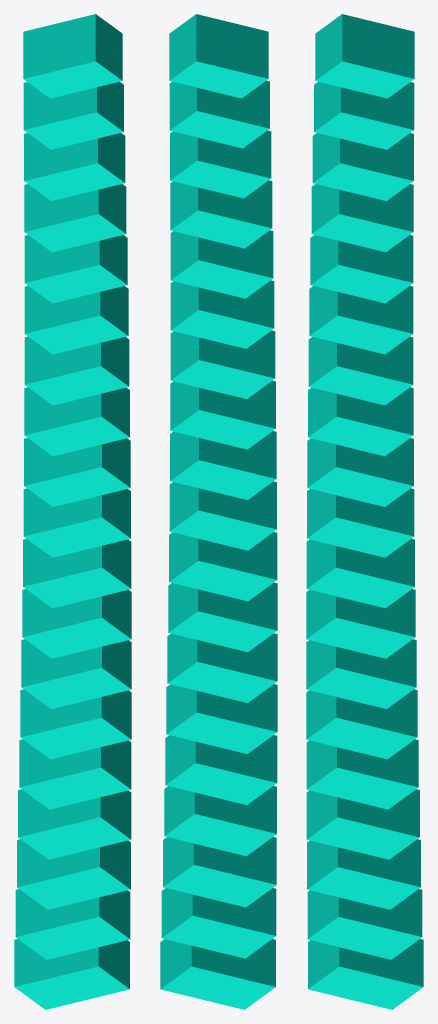
File: ora-casa-tua.glb
3 views of the same model, side by side, from view 1: azimuth 30°, elevation 25°; view 2: azimuth 150°, elevation 25°; view 3: azimuth 330°, elevation 25° (orthographic).
Bounding box in the file's own units: 28 × 303 × 20.35.
